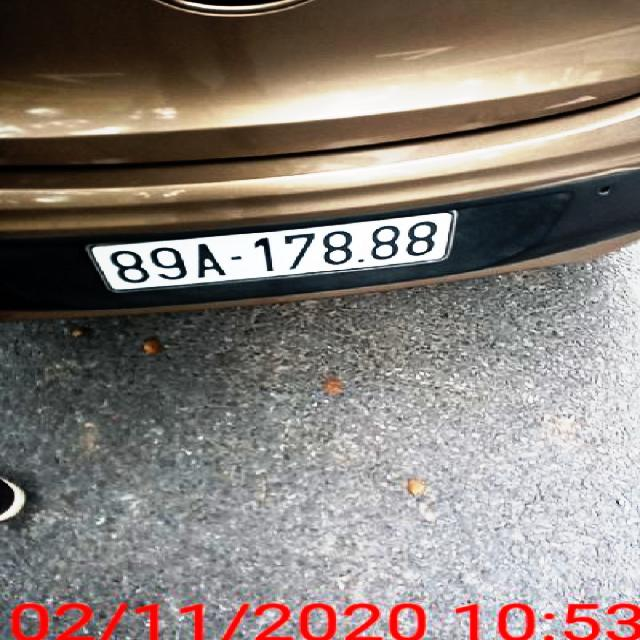license_plate: (88, 212, 458, 294)
